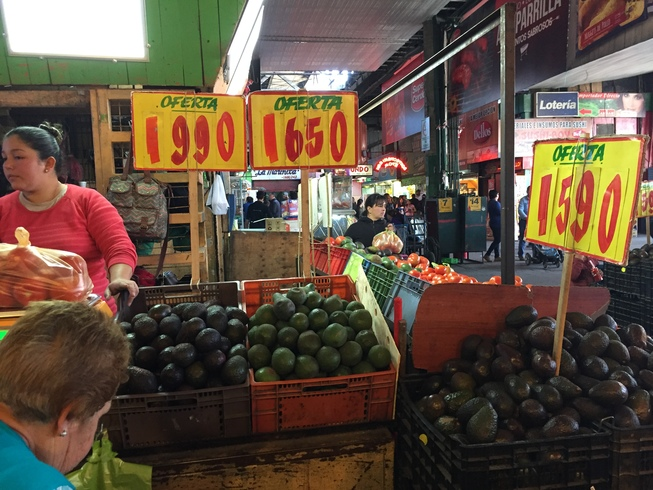precio: (519, 135, 643, 261), (128, 87, 245, 174), (249, 87, 364, 171)
